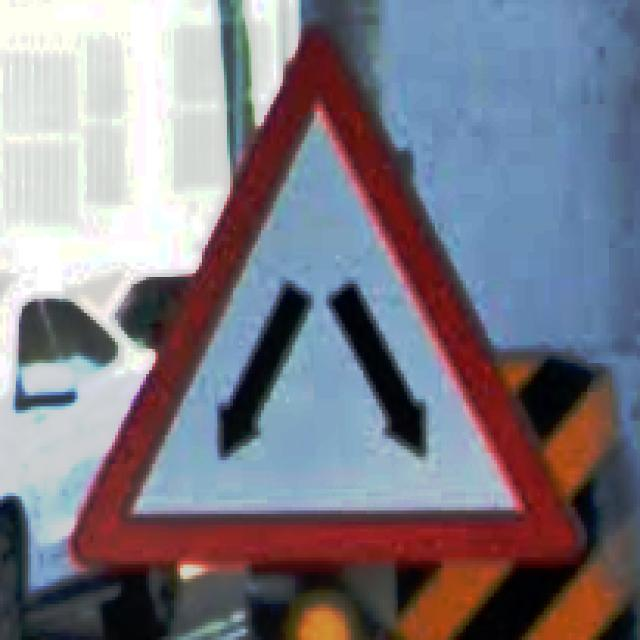diverge: (68, 25, 590, 572)
